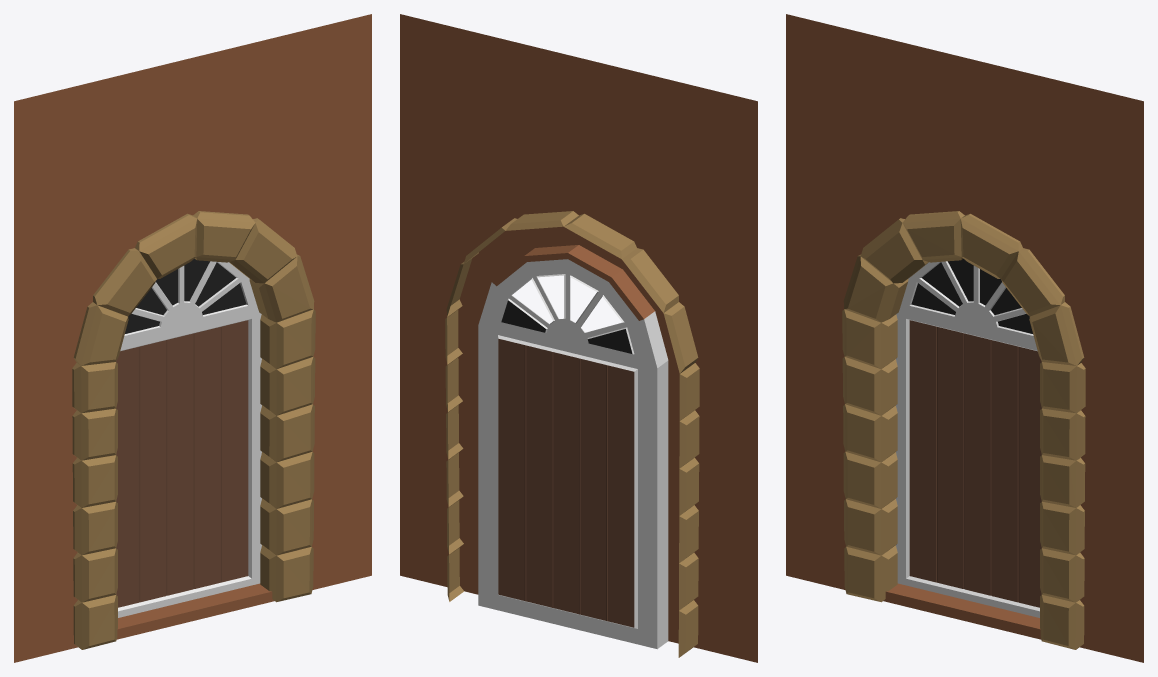
File: DoorC.fbx
The picture shows the model from 3 angles, left to right: view 1: azimuth 30°, elevation 25°; view 2: azimuth 150°, elevation 25°; view 3: azimuth 330°, elevation 25°; orthographic projection.
Parts seen in each view (by area): view 1: DoorC; view 2: DoorC; view 3: DoorC.
Part boxes in pixels (left/top/right/bottom): DoorC: left=14, top=14, right=371, bottom=662; DoorC: left=400, top=14, right=757, bottom=662; DoorC: left=786, top=14, right=1143, bottom=662.
Bounding box in the file's own units: 200 × 300 × 21.74.
